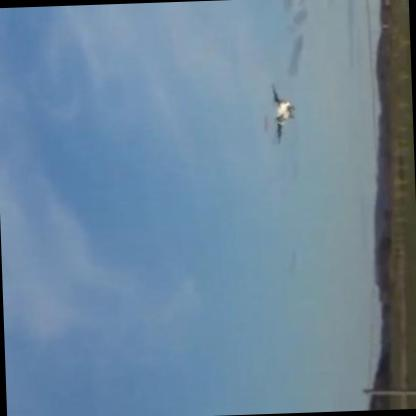plane: (265, 80, 298, 145)
